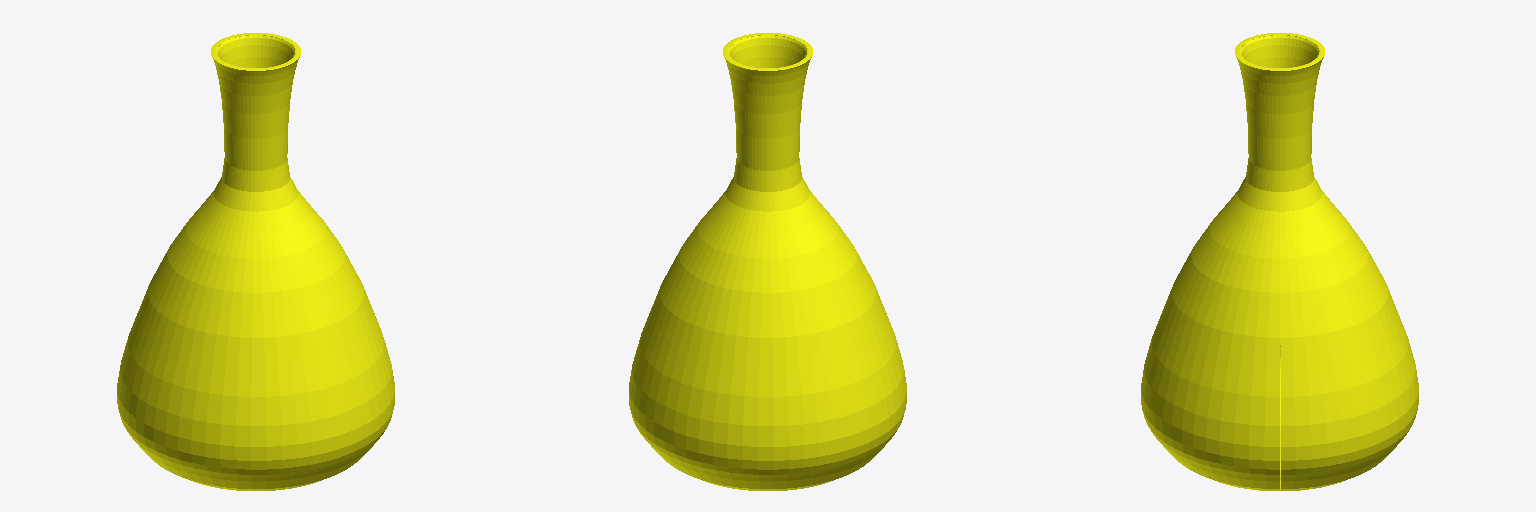
Rendered from vase.obj.
3 renders of one model, left to right at view 1: azimuth 30°, elevation 25°; view 2: azimuth 150°, elevation 25°; view 3: azimuth 270°, elevation 25°, orthographic.
Parts seen in each view (by area): view 1: vase:Mesh; view 2: vase:Mesh; view 3: vase:Mesh.
Boxes of the visible parts, box(x1,y1,x2,y2) form: vase:Mesh: box(117, 33, 394, 490); vase:Mesh: box(629, 33, 906, 490); vase:Mesh: box(1141, 33, 1418, 490).
Bounding box in the file's own units: 2.05 × 3.32 × 2.05.